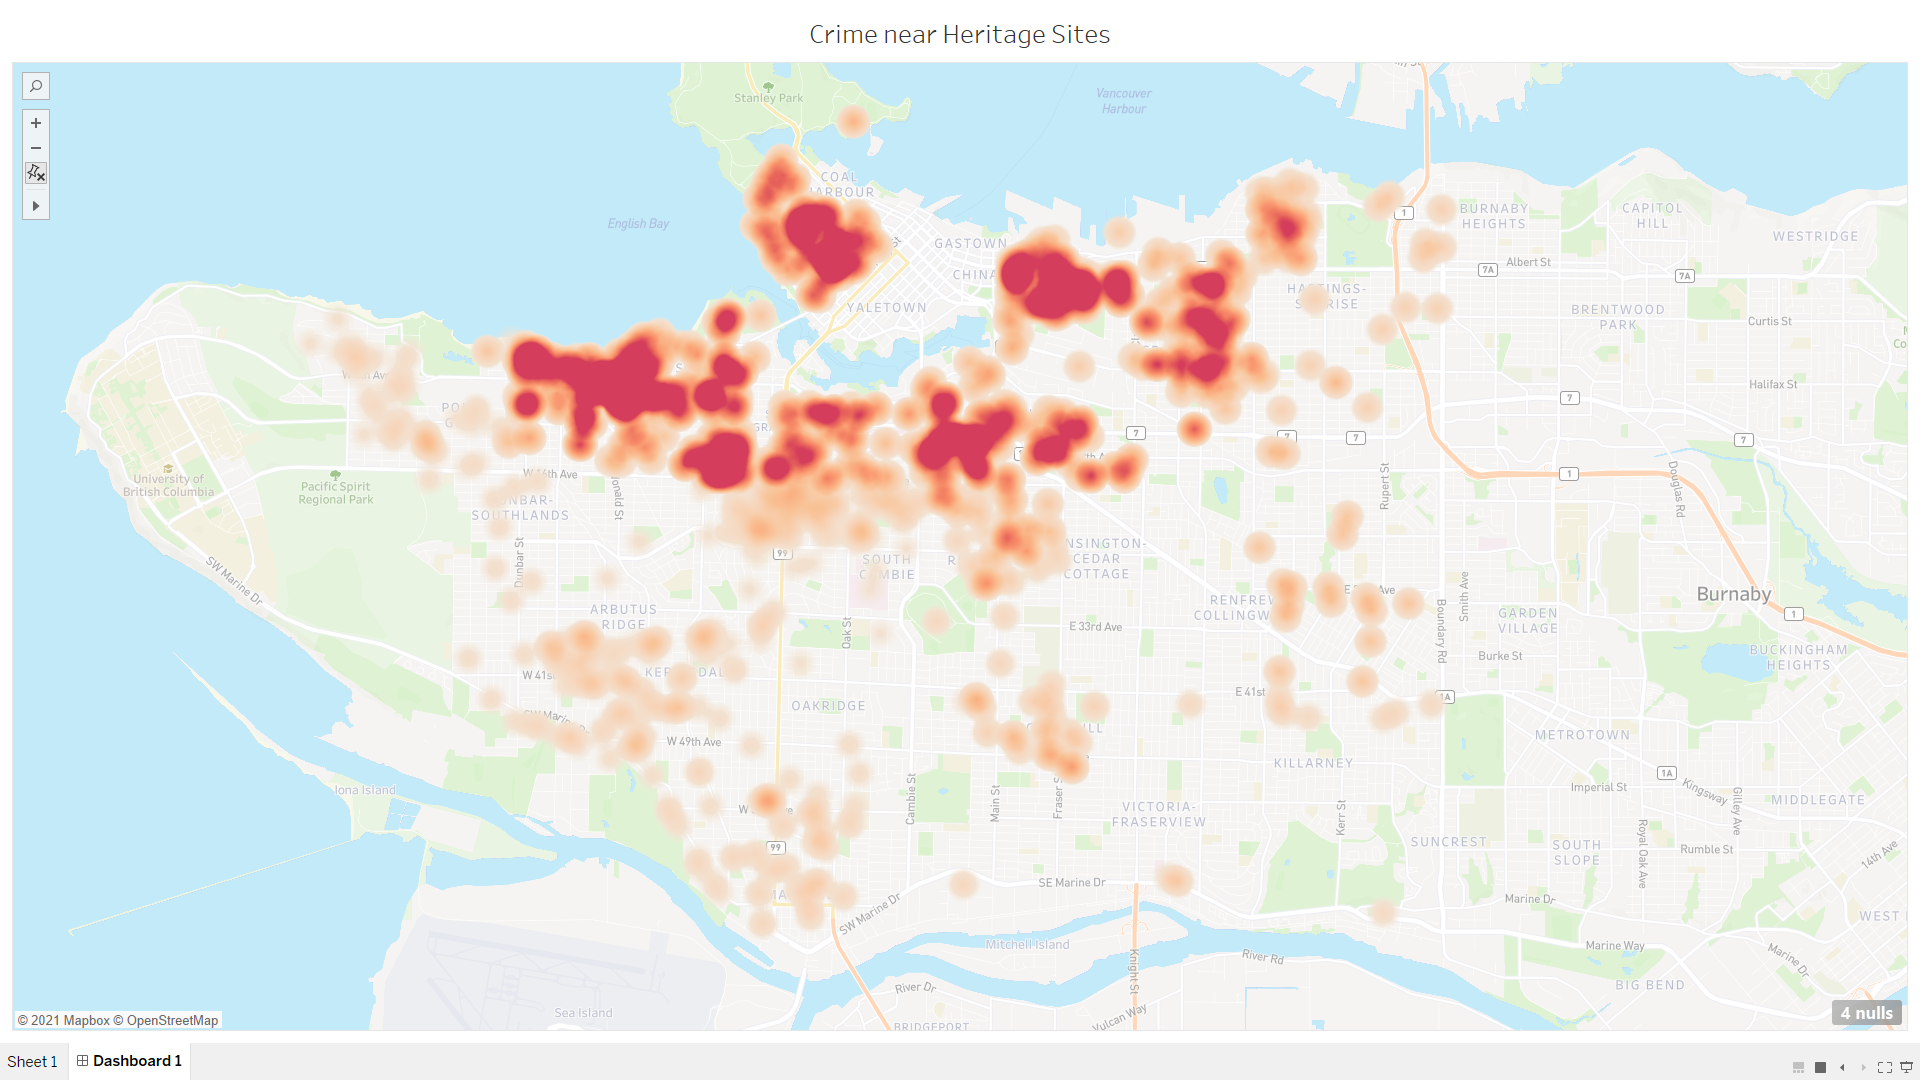

What the dashboard file says about the page in this screenshot:
{"tool":"tableau","page":{"name":"Dashboard 1","canvas":[1000,1000],"units":"permille","ordinal":0},"visuals":[{"type":"worksheet","title":"Sheet 1","mark":"Automatic","box":[4.8,9.3,893.8,981.4]},{"type":"legend","title":"Sheet 1","param":"[federated.1s4b5z10wqg3g819w9l4s04un8us].[none:TYPE:nk]","box":[898.6,9.3,96.6,278.7]}]}

Visuals, with their boxes on the dashboard's canvas, which has no fixed pixel size, in thousandths of its width and height (x1, y1, x2, y2). These are canvas units, not pixel positions in the 1920x1080 screenshot, which may show the page scaled, cropped or inside an application window:
"Sheet 1" worksheet: select_region(5, 9, 899, 991)
"Sheet 1" legend: select_region(899, 9, 995, 288)
